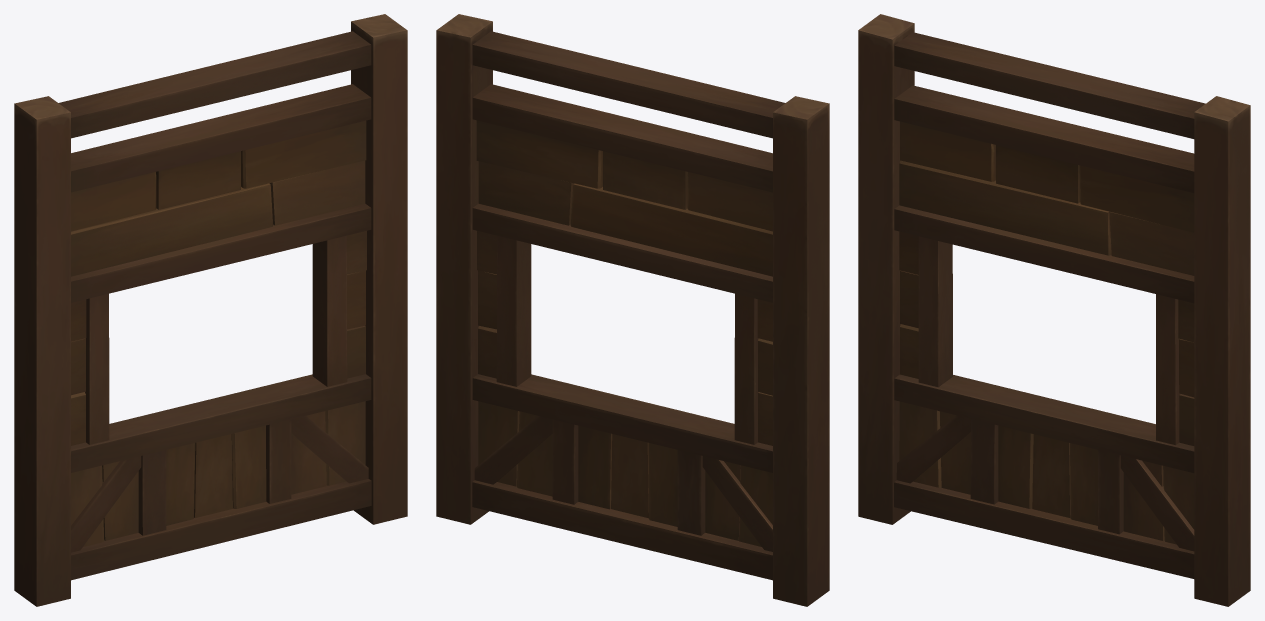
The model's file is Window02.FBX.
3 renders of one model, left to right at view 1: azimuth 30°, elevation 25°; view 2: azimuth 150°, elevation 25°; view 3: azimuth 330°, elevation 25°, orthographic.
Visible parts, largest first — view 1: Object407; view 2: Object407; view 3: Object407.
Boxes of the visible parts, left/top/right/bottom form: Object407: left=14, top=14, right=407, bottom=606; Object407: left=436, top=14, right=829, bottom=606; Object407: left=858, top=14, right=1250, bottom=606.
Size of the model in its own units: 2 by 2.51 by 0.2079.
1 material, 1 textured.
